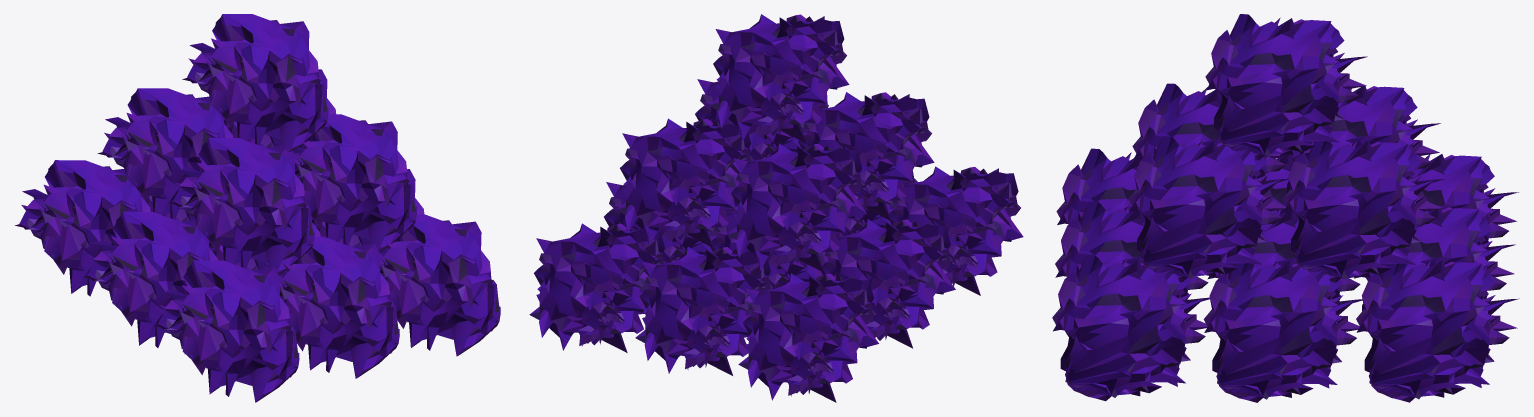
Rendered from OrePile_Tungsten.glb.
3 views of the same model, side by side, from view 1: azimuth 30°, elevation 25°; view 2: azimuth 150°, elevation 25°; view 3: azimuth 270°, elevation 25° (orthographic). The views are drawn at different scales.
Visible parts, largest first — view 1: OrePile_Tungsten; view 2: OrePile_Tungsten; view 3: OrePile_Tungsten.
Part boxes in pixels (left/top/right/bottom): OrePile_Tungsten: left=15, top=14, right=500, bottom=402; OrePile_Tungsten: left=529, top=14, right=1023, bottom=402; OrePile_Tungsten: left=1052, top=14, right=1519, bottom=402.
Bounding box in the file's own units: 2.81 × 2.49 × 3.32.
Materials: 1 (1 with a texture image).
